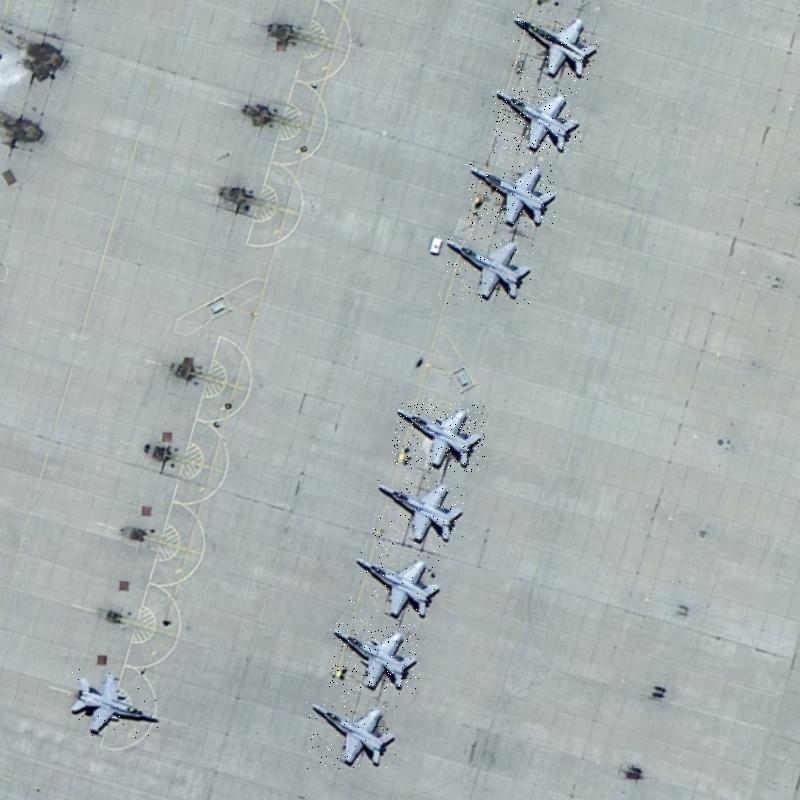A16: (349, 550, 443, 622), (372, 476, 464, 548), (439, 234, 533, 304), (306, 698, 398, 769), (329, 623, 420, 694), (67, 668, 159, 738), (392, 403, 485, 472), (511, 11, 600, 81), (492, 87, 581, 154), (466, 162, 556, 227)
